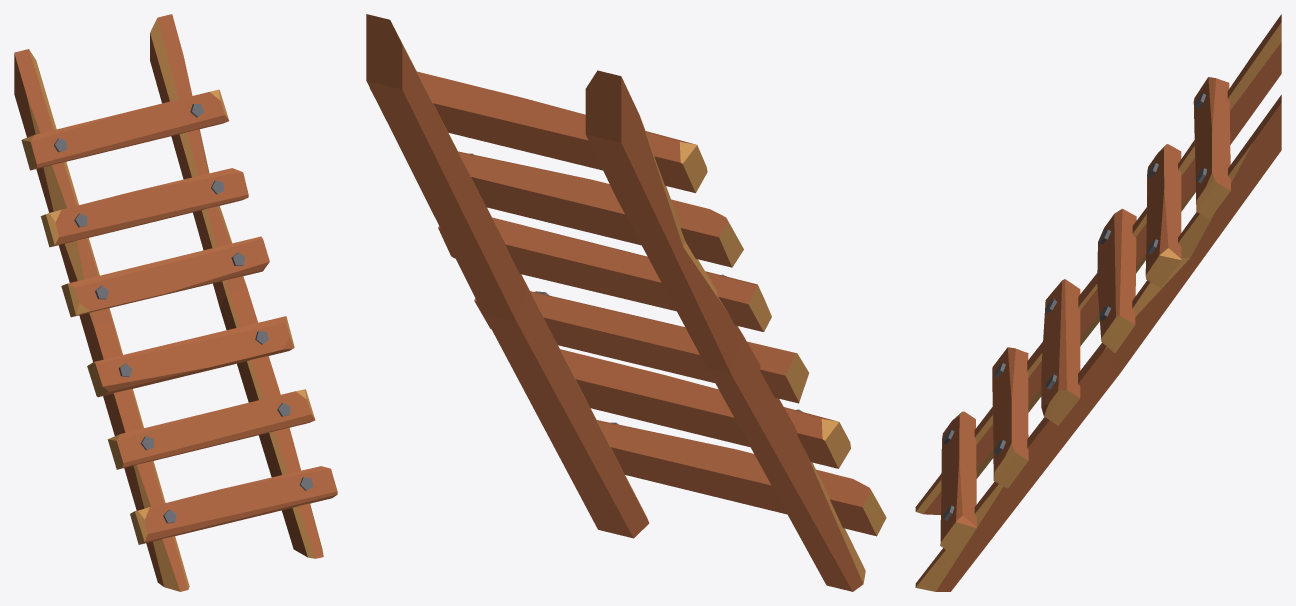
File: Ladder.fbx
The picture shows the model from 3 angles, left to right: view 1: azimuth 30°, elevation 25°; view 2: azimuth 150°, elevation 25°; view 3: azimuth 270°, elevation 25°; orthographic projection. The views are drawn at different scales.
Parts seen in each view (by area): view 1: Ladder; view 2: Ladder; view 3: Ladder.
Boxes of the visible parts, left/top/right/bottom form: Ladder: left=14, top=14, right=337, bottom=591; Ladder: left=366, top=14, right=886, bottom=591; Ladder: left=915, top=14, right=1281, bottom=591.
Bounding box in the file's own units: 28.46 × 58.69 × 39.81.
